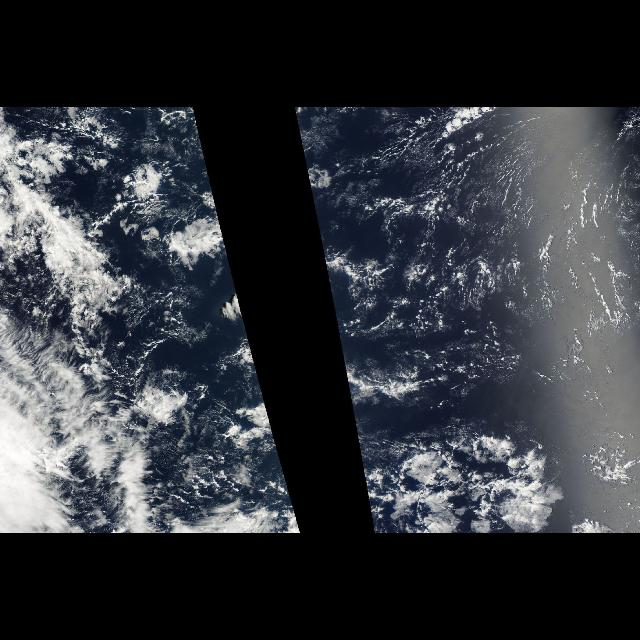Flower: (381, 384, 559, 534), (85, 147, 227, 277)
Sugar: (327, 140, 625, 396)
